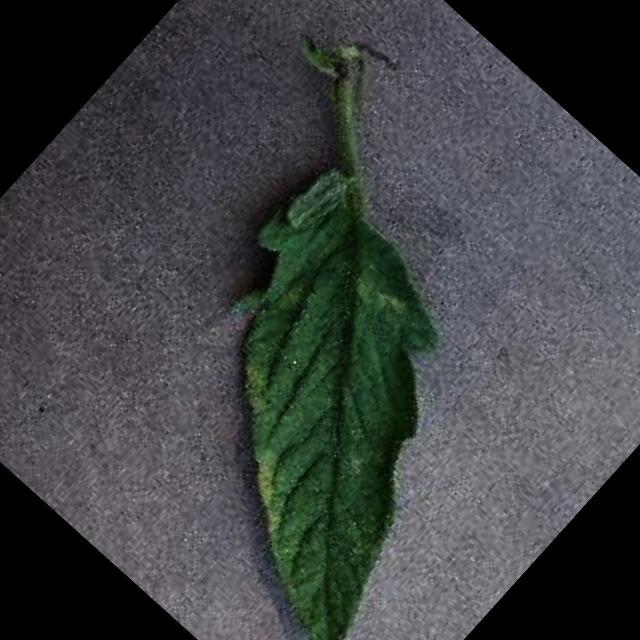Tomato mold leaf: (74, 151, 593, 640)
